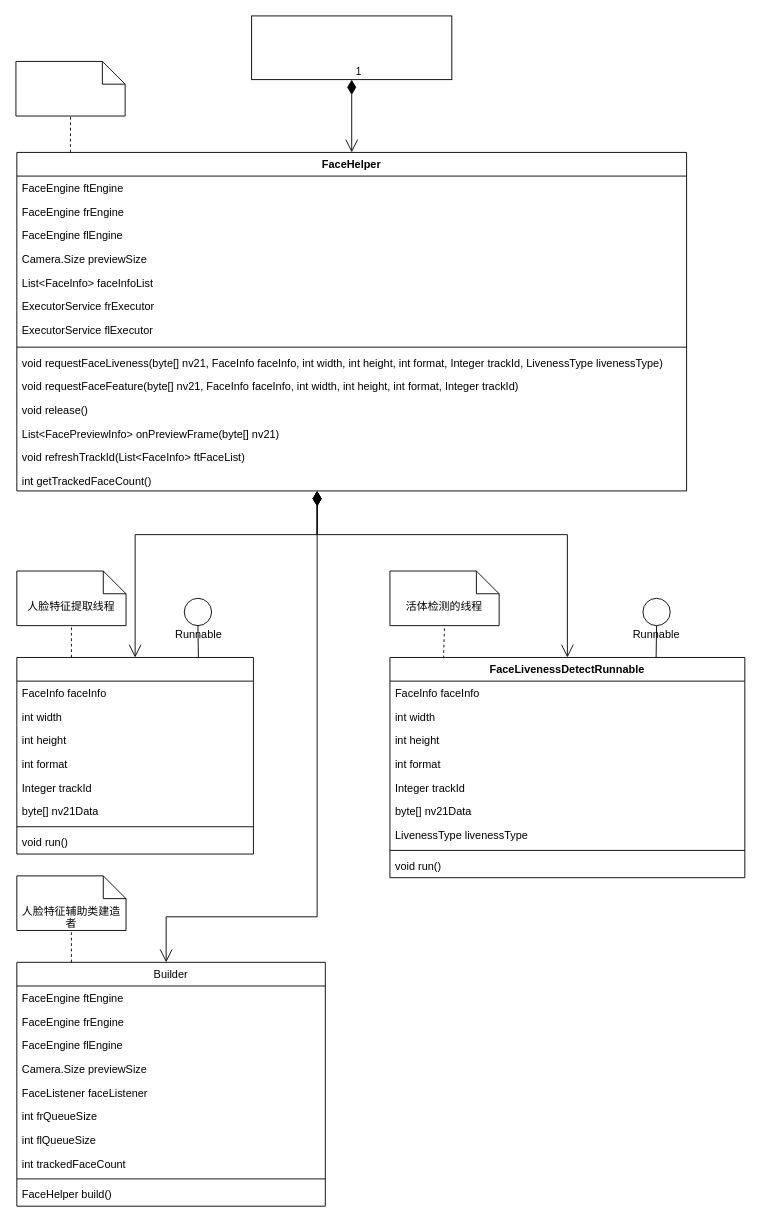
This 761x1225 diagram has some shape labels left out. The shapes that lost their labels are listed below. From the top down, each one's box as (x1, y1, x2, y2) in pixels, then its label:
(251, 15, 452, 80): RegisterAndRecognizeActivity
(15, 61, 125, 116): 人脸操作辅助类
(16, 657, 253, 854): FaceRecognizeRunnable
